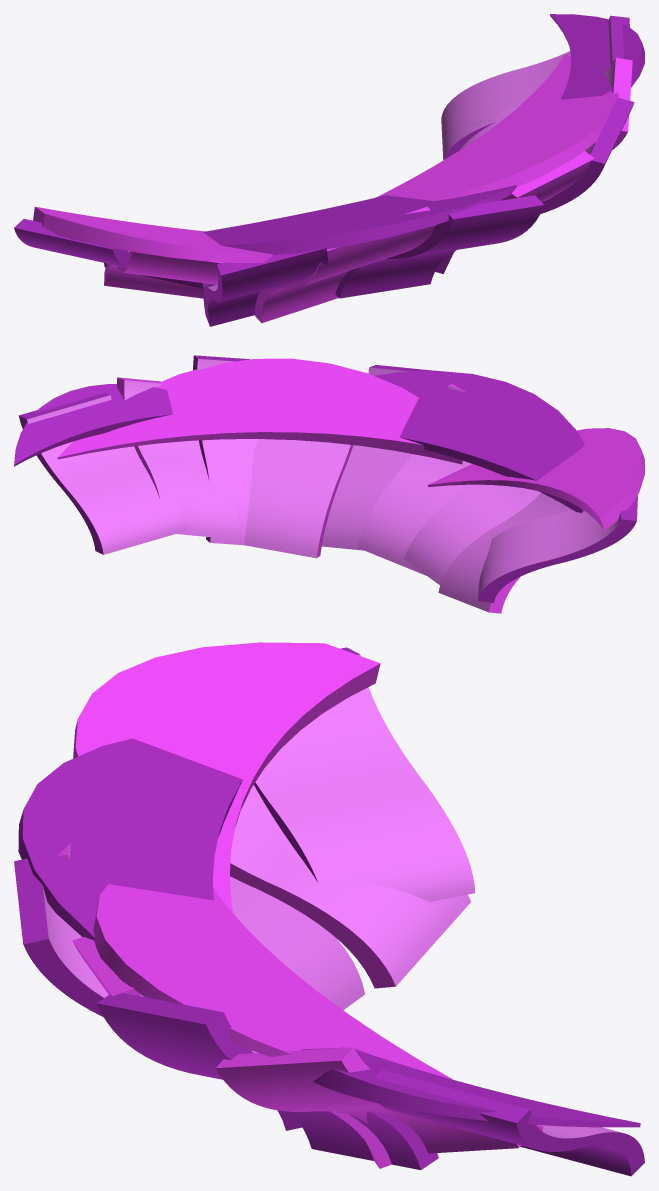
The model's file is shelf_big.fbx.
The picture shows the model from 3 angles, top to bottom: view 1: azimuth 30°, elevation 25°; view 2: azimuth 150°, elevation 25°; view 3: azimuth 270°, elevation 25°; orthographic projection. The views are drawn at different scales.
Visible parts, largest first — view 1: mergedBlocks; view 2: mergedBlocks; view 3: mergedBlocks.
Boxes of the visible parts, box(x1,y1,x2,y2) form: mergedBlocks: box(14, 14, 644, 326); mergedBlocks: box(14, 355, 644, 613); mergedBlocks: box(14, 642, 644, 1176).
Size of the model in its own units: 40.09 by 9.62 by 22.25.
